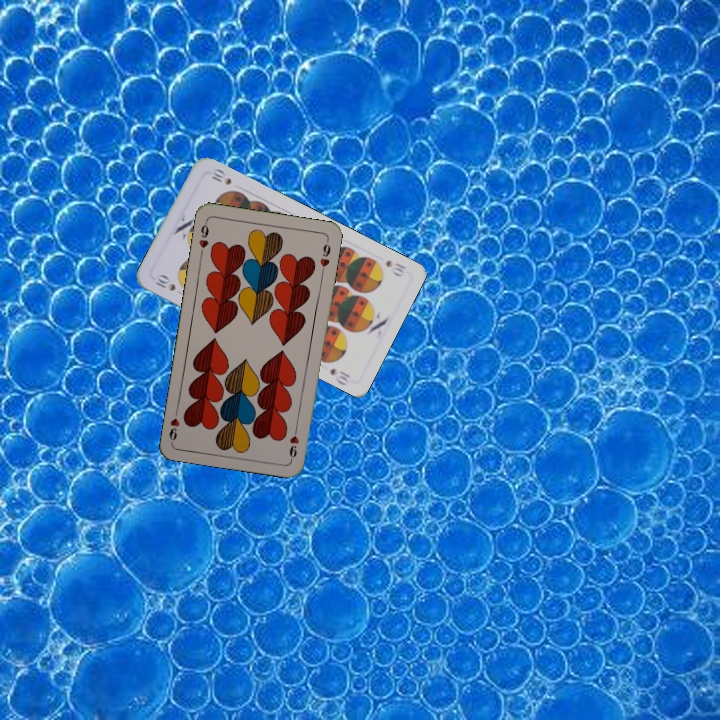H9: (285, 422, 302, 462), (195, 217, 211, 258)
S10: (150, 270, 178, 294), (382, 256, 408, 279)
